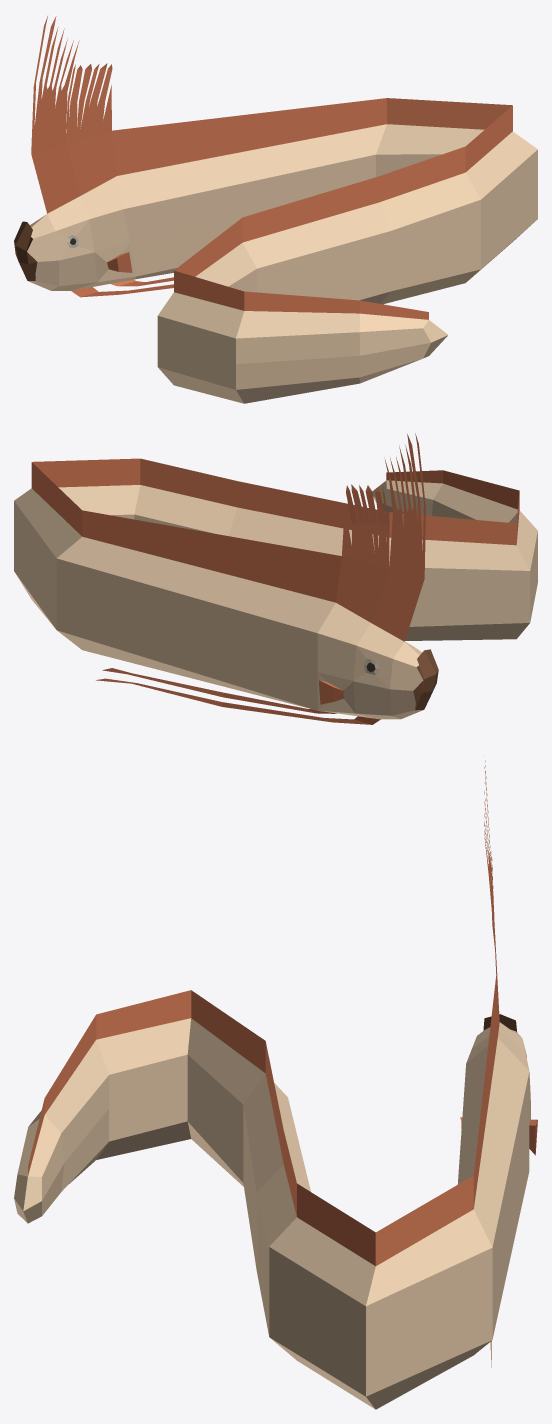
Rendered from OarfishCooked.glb.
The picture shows the model from 3 angles, top to bottom: view 1: azimuth 30°, elevation 25°; view 2: azimuth 150°, elevation 25°; view 3: azimuth 270°, elevation 25°; orthographic projection. The views are drawn at different scales.
Visible parts, largest first — view 1: EXPORT_cooked_oarfish; view 2: EXPORT_cooked_oarfish; view 3: EXPORT_cooked_oarfish.
Part boxes in pixels (x1,y1,x2,y2): EXPORT_cooked_oarfish: [14, 16, 537, 403]; EXPORT_cooked_oarfish: [14, 433, 537, 724]; EXPORT_cooked_oarfish: [14, 756, 537, 1409].
Size of the model in its own units: 0.9632 by 0.628 by 0.7159.
